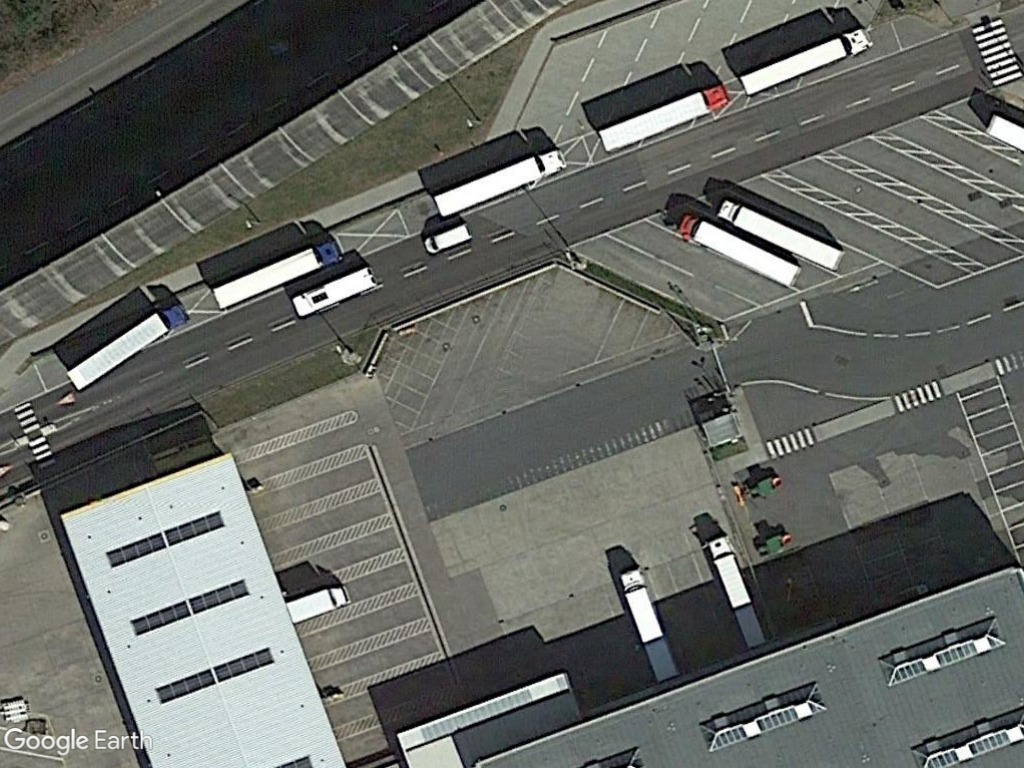bus: (278, 263, 387, 317)
longvehicle: (62, 294, 191, 398), (712, 181, 848, 278), (205, 229, 350, 316), (604, 553, 683, 700), (595, 74, 731, 156), (669, 212, 801, 293), (432, 147, 570, 224), (737, 25, 873, 100), (694, 525, 771, 654)
truck: (282, 579, 353, 626)
van: (416, 221, 477, 256)
